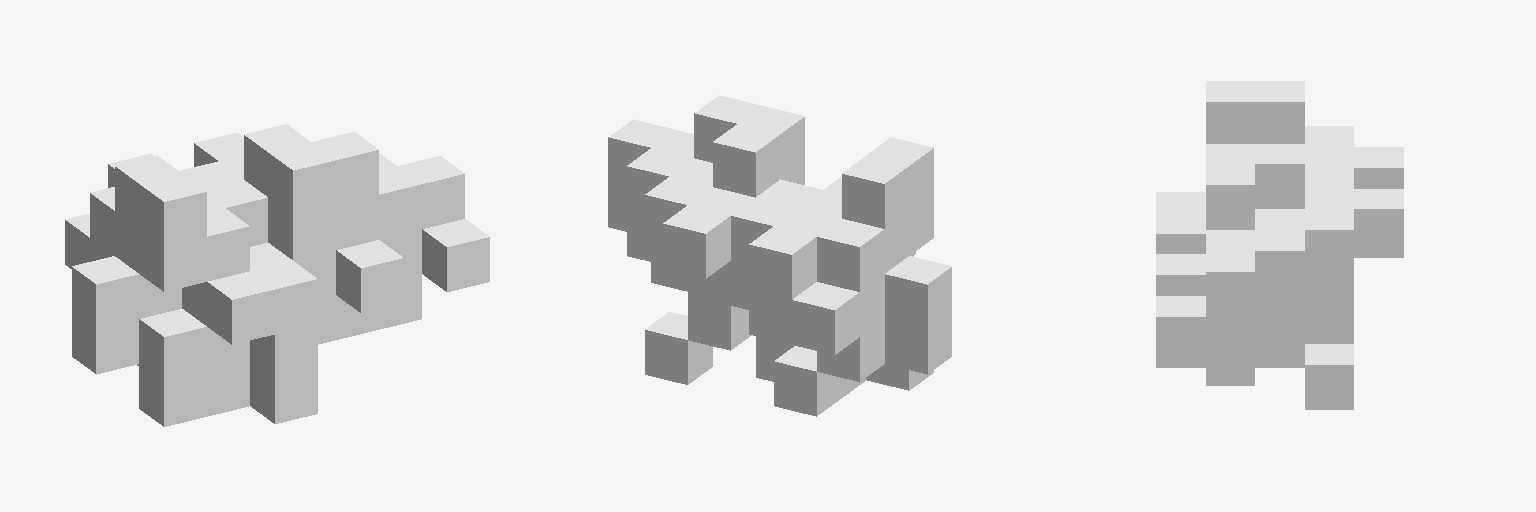
File: cloud02.obj
3 renders of one model, left to right at view 1: azimuth 30°, elevation 25°; view 2: azimuth 150°, elevation 25°; view 3: azimuth 270°, elevation 25°, orthographic.
Bounding box in the file's own units: 8 × 5 × 5.